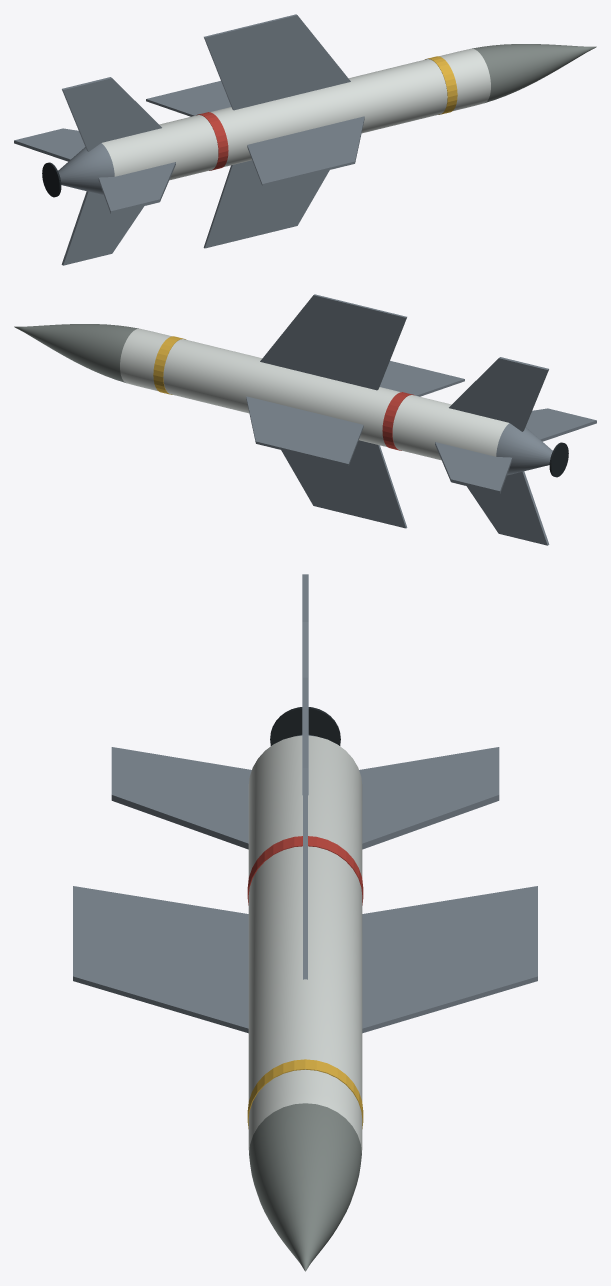
3 views of the same model, one above another, from view 1: azimuth 30°, elevation 25°; view 2: azimuth 150°, elevation 25°; view 3: azimuth 270°, elevation 25° (orthographic). The views are drawn at different scales.
Visible parts, largest first — view 1: cw90_p120; view 2: cw90_p120; view 3: cw90_p120.
Part boxes in pixels (<box>): cw90_p120: <box>14,14,596,265</box>; cw90_p120: <box>14,294,596,545</box>; cw90_p120: <box>73,574,537,1271</box>.
Bounding box in the file's own units: 10 × 3.69 × 3.69.
